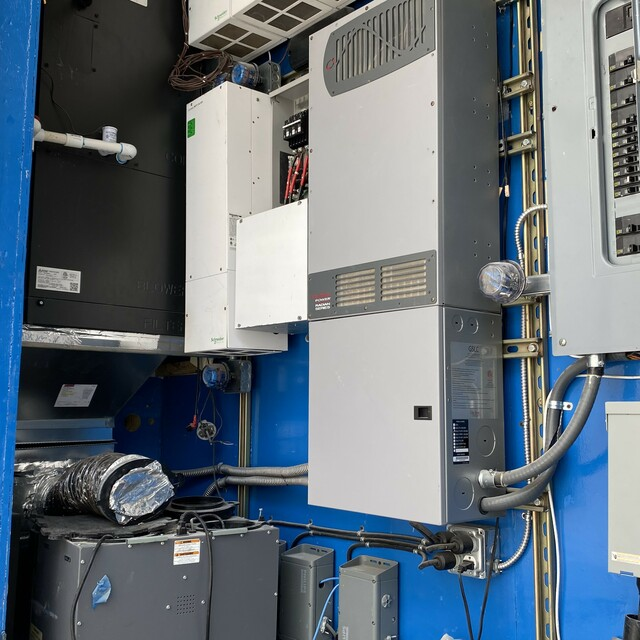inverter: (299, 4, 508, 537)
